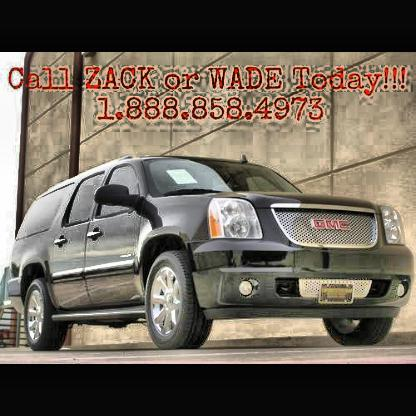GMC Yukon Hybrid SUV 2012: (10, 156, 416, 351)
